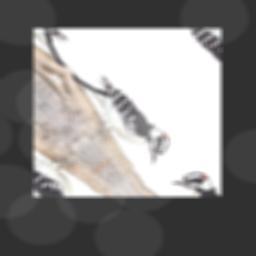Woodpecker: (44, 56, 179, 182)
